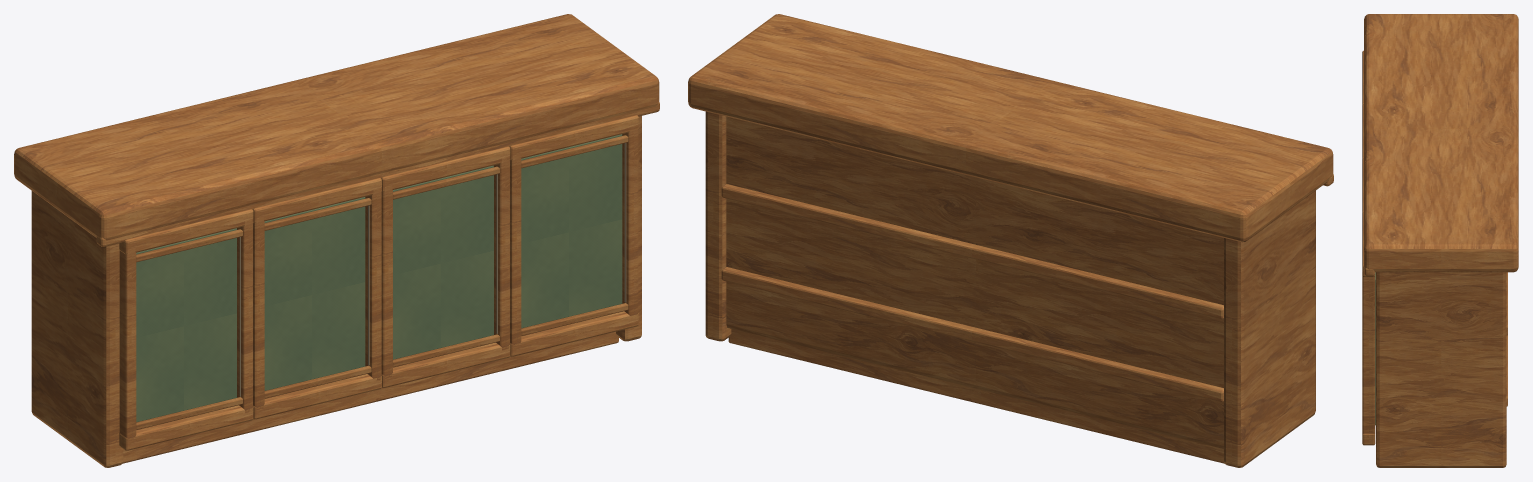
File: WC_CAFE_Counter_Straight_A.glb
3 renders of one model, left to right at view 1: azimuth 30°, elevation 25°; view 2: azimuth 150°, elevation 25°; view 3: azimuth 270°, elevation 25°, orthographic. The views are drawn at different scales.
Visible parts, largest first — view 1: WC_CAFE_Counter_Straight_A_PolishedRenderMesh; view 2: WC_CAFE_Counter_Straight_A_PolishedRenderMesh; view 3: WC_CAFE_Counter_Straight_A_PolishedRenderMesh.
Part boxes in pixels (x1=…): WC_CAFE_Counter_Straight_A_PolishedRenderMesh: x1=14, y1=14, x2=659, y2=467; WC_CAFE_Counter_Straight_A_PolishedRenderMesh: x1=688, y1=14, x2=1333, y2=467; WC_CAFE_Counter_Straight_A_PolishedRenderMesh: x1=1362, y1=14, x2=1518, y2=467.
Size of the model in its own units: 2.33 by 1.08 by 0.6575.
Materials: 5 (4 with a texture image).
